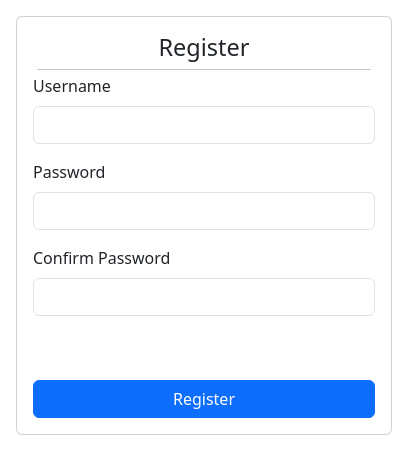
Register Component › handles empty username
(page scrolled)
Click the button "Register": [204, 399] box [33,380,375,418]
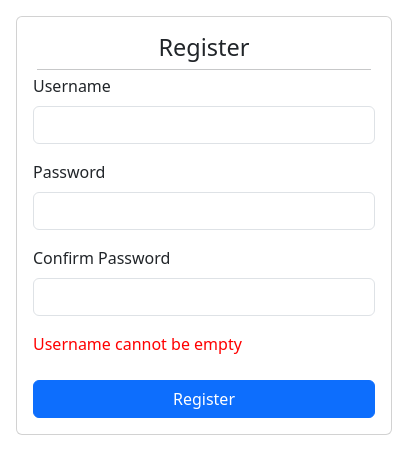
expect the text "Username cannot be empty" is shown: met, box [33,333,242,355]
